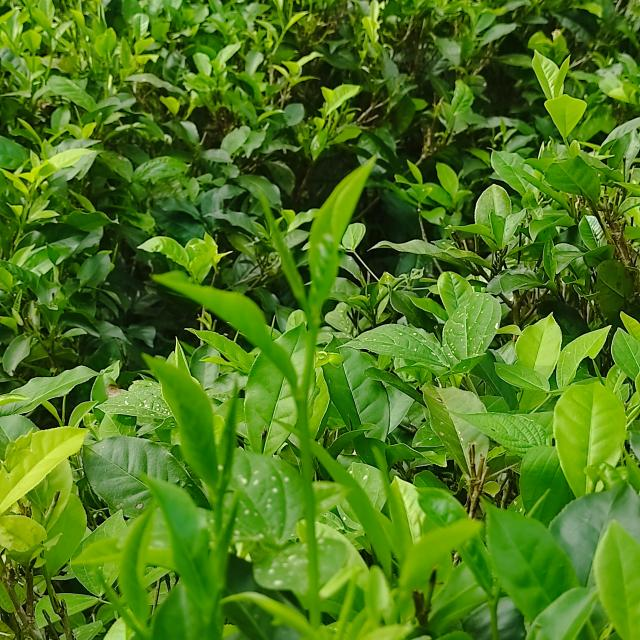unopened_leaf: (253, 180, 311, 322), (208, 365, 249, 495), (210, 496, 253, 615), (91, 564, 154, 640), (524, 485, 554, 515), (589, 357, 611, 385)
